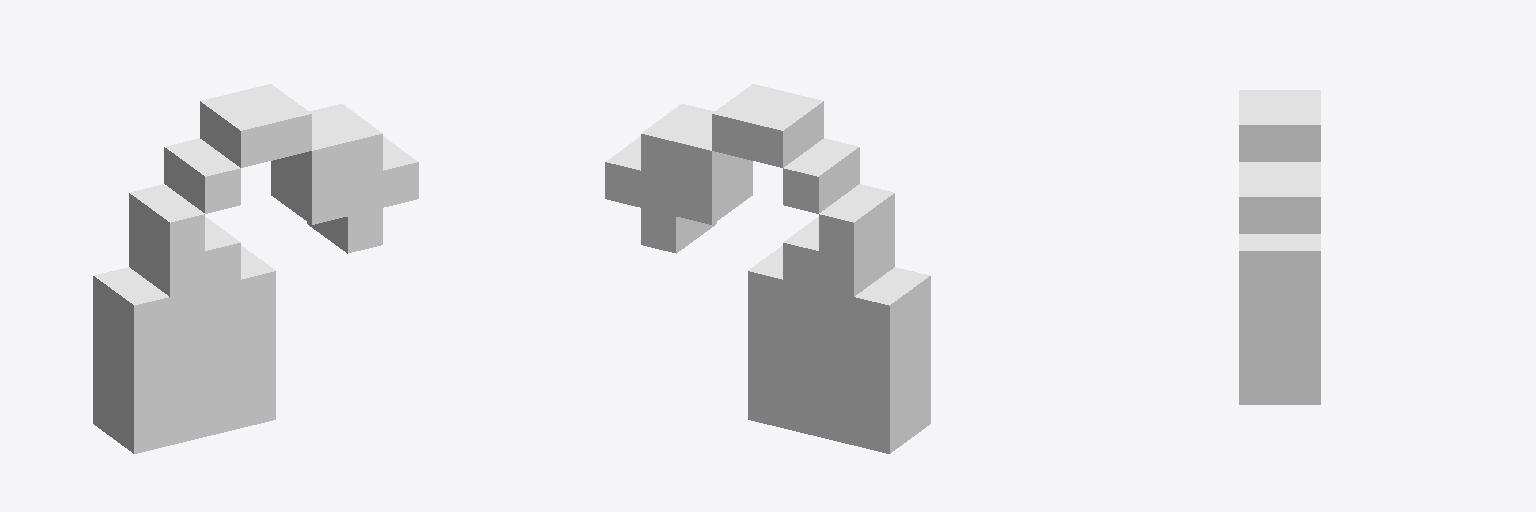
Rendered from 3d_Tea.obj.
3 renders of one model, left to right at view 1: azimuth 30°, elevation 25°; view 2: azimuth 150°, elevation 25°; view 3: azimuth 270°, elevation 25°, orthographic.
Parts seen in each view (by area): view 1: object 1; view 2: object 1; view 3: object 1.
Boxes of the visible parts, x1,y1,x2,y2 form: object 1: [93, 84, 418, 453]; object 1: [605, 84, 930, 453]; object 1: [1239, 90, 1320, 404].
Bounding box in the file's own units: 0.8 × 0.8 × 0.2.